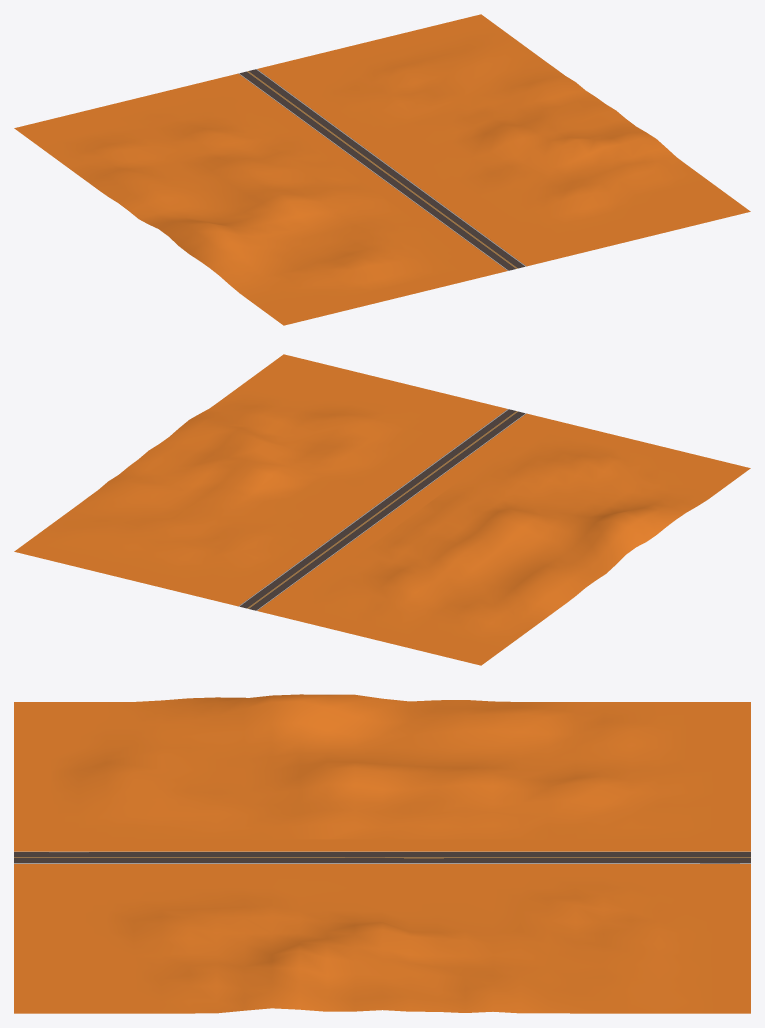
Rendered from TileDesert5_1.fbx.
3 renders of one model, top to bottom at view 1: azimuth 30°, elevation 25°; view 2: azimuth 150°, elevation 25°; view 3: azimuth 270°, elevation 25°, orthographic. The views are drawn at different scales.
Parts seen in each view (by area): view 1: Plane.003, Road; view 2: Plane.003, Road; view 3: Plane.003, Road.
Boxes of the visible parts, x1,y1,x2,y2 form: Plane.003: (14,14,750,325); Road: (238,69,526,270); Plane.003: (14,354,750,665); Road: (238,409,526,610); Plane.003: (14,694,750,1013); Road: (14,851,750,863).
Size of the model in its own units: 20015 by 692 by 20000.
